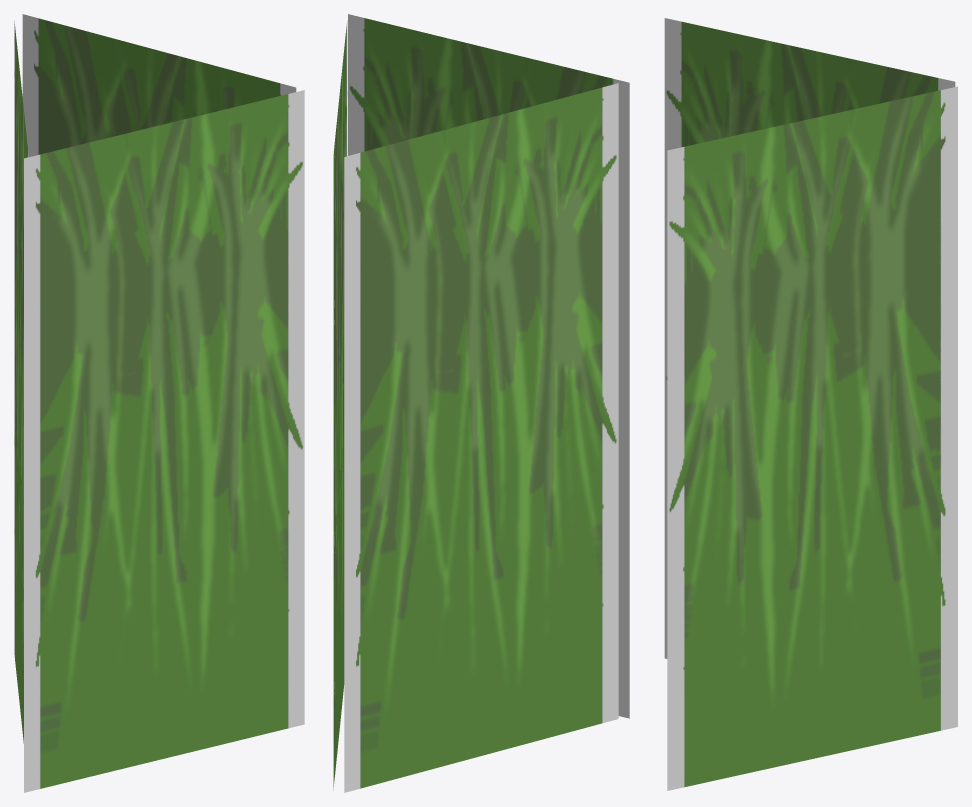
Rendered from GrassTriangle.FBX.
3 renders of one model, left to right at view 1: azimuth 30°, elevation 25°; view 2: azimuth 150°, elevation 25°; view 3: azimuth 270°, elevation 25°, orthographic.
Parts seen in each view (by area): view 1: Plane001; view 2: Plane001; view 3: Plane001.
Boxes of the visible parts, x1=… form: Plane001: x1=14, y1=14, x2=304, y2=792; Plane001: x1=333, y1=14, x2=629, y2=792; Plane001: x1=664, y1=18, x2=957, y2=790.
Bounding box in the file's own units: 6.64 × 14.32 × 6.07.
